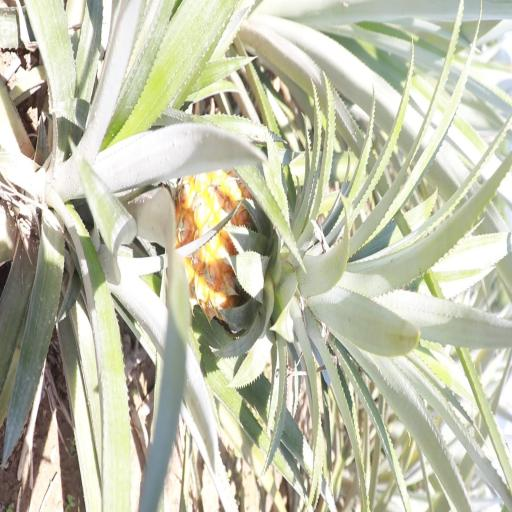Pineapple - v8 v1: (174, 166, 431, 361)
